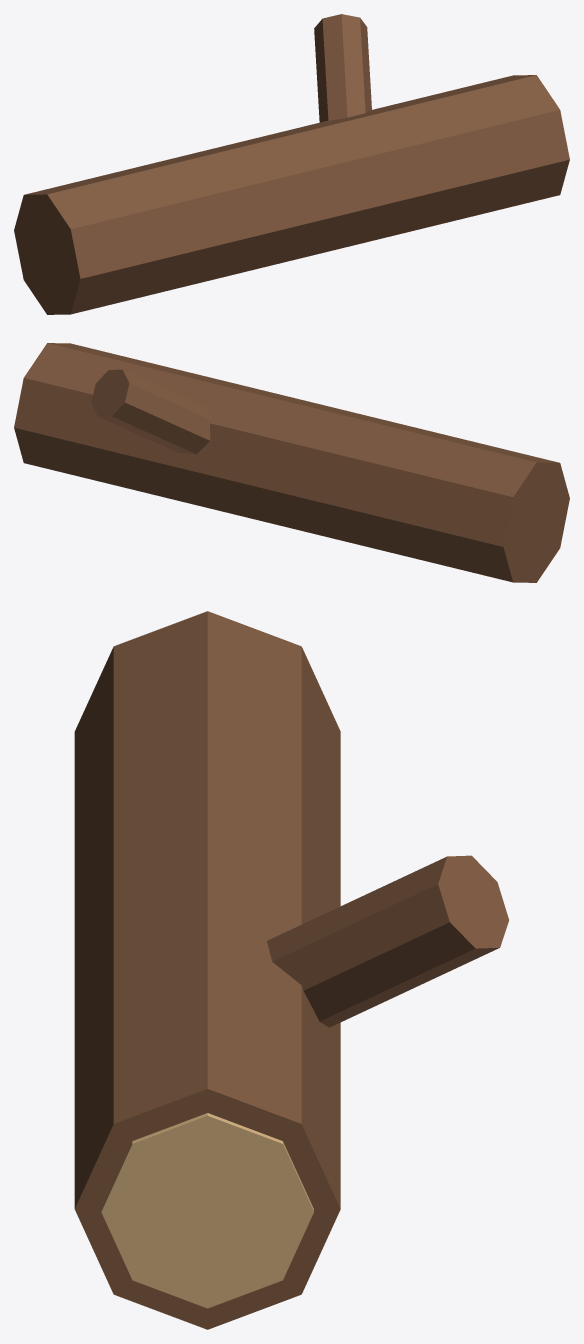
The model's file is nature_log.glb.
3 views of the same model, one above another, from view 1: azimuth 30°, elevation 25°; view 2: azimuth 150°, elevation 25°; view 3: azimuth 270°, elevation 25° (orthographic). The views are drawn at different scales.
Parts seen in each view (by area): view 1: nature_log; view 2: nature_log; view 3: nature_log.
Part boxes in pixels (x1=…): nature_log: x1=14, y1=14, x2=569, y2=314; nature_log: x1=14, y1=343, x2=569, y2=582; nature_log: x1=74, y1=611, x2=508, y2=1329.
Bounding box in the file's own units: 1.71 × 0.5664 × 0.6535.
